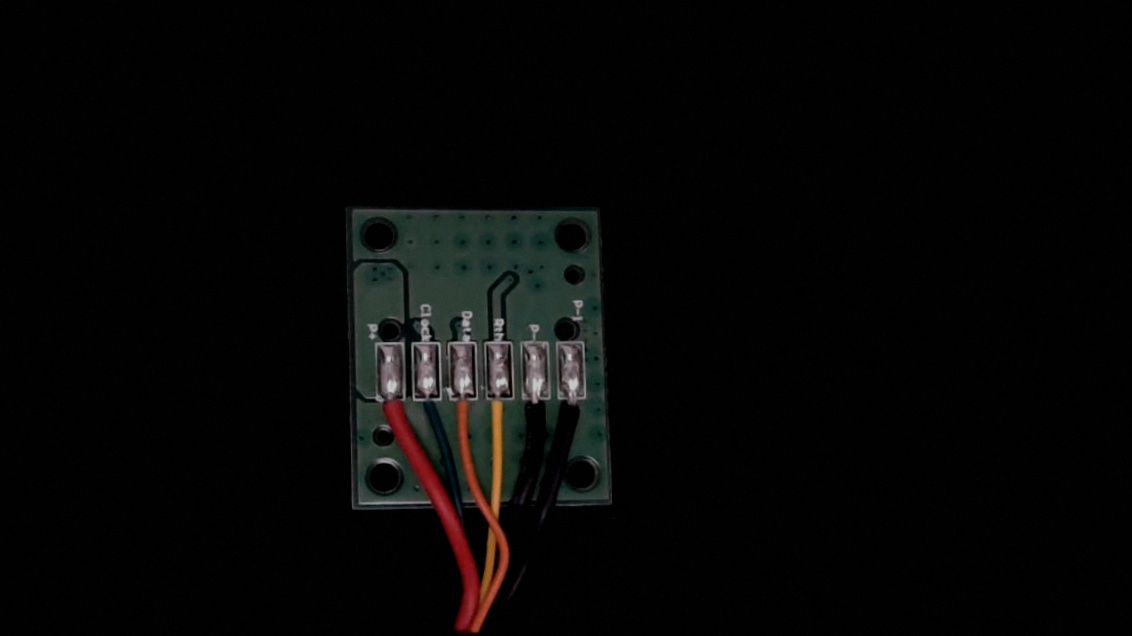Black: (521, 384, 554, 451)
Black1: (558, 384, 590, 445)
Green: (415, 383, 446, 441)
Orange: (447, 385, 480, 452)
Red: (373, 386, 407, 450)
Yellow: (483, 383, 516, 452)
